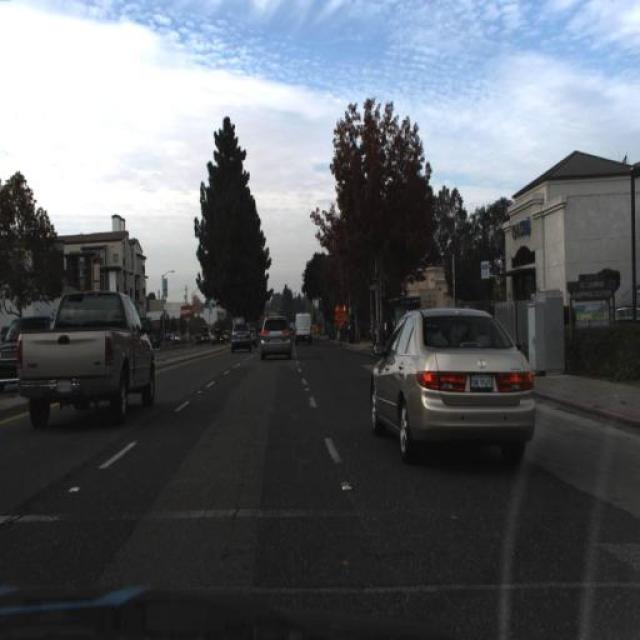car: (364, 303, 541, 469), (10, 280, 161, 440), (254, 306, 298, 366), (292, 305, 318, 353), (228, 316, 254, 356), (292, 310, 316, 346)
